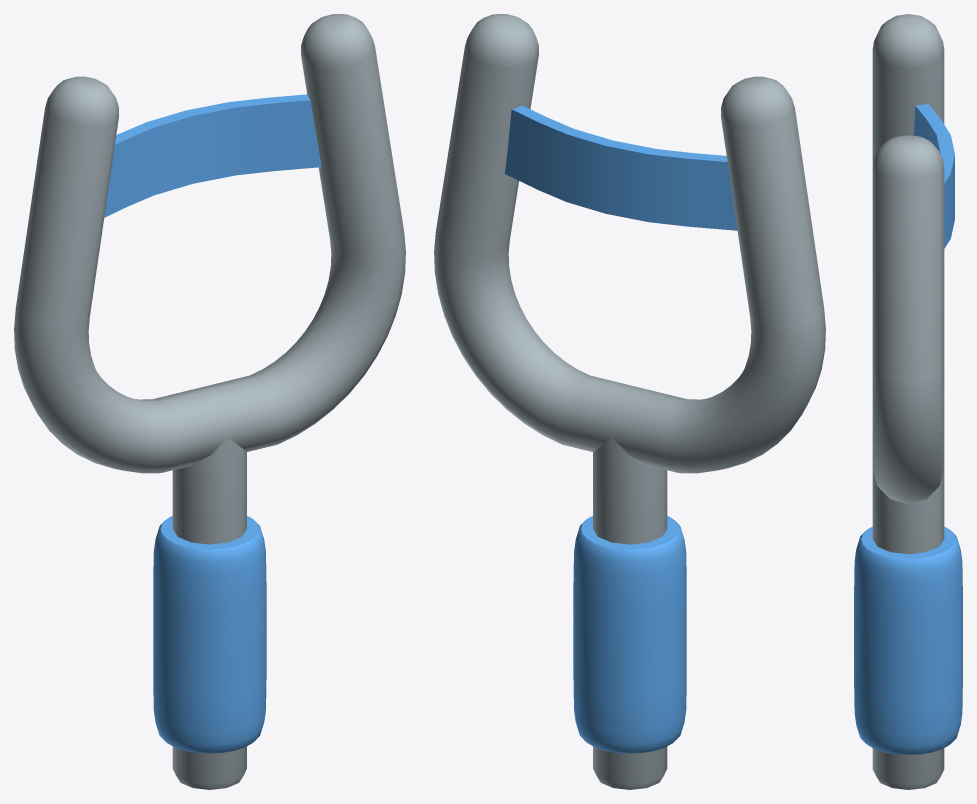
File: slingshot_teamBlue-col.glb
The picture shows the model from 3 angles, left to right: view 1: azimuth 30°, elevation 25°; view 2: azimuth 150°, elevation 25°; view 3: azimuth 270°, elevation 25°; orthographic projection. The views are drawn at different scales.
Parts seen in each view (by area): view 1: slingshot_teamBlue-col; view 2: slingshot_teamBlue-col; view 3: slingshot_teamBlue-col.
Part boxes in pixels (x1,y1,x2,y2): slingshot_teamBlue-col: (14, 14, 405, 789); slingshot_teamBlue-col: (434, 14, 825, 789); slingshot_teamBlue-col: (854, 14, 962, 789).
Bounding box in the file's own units: 0.607 × 1.11 × 0.156.
